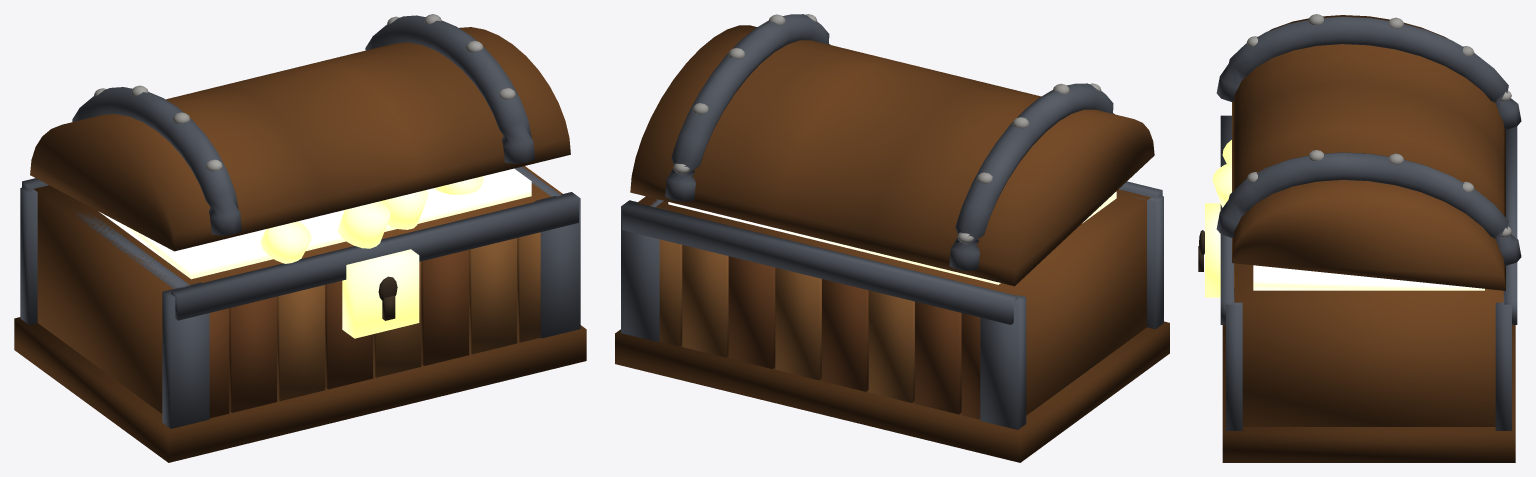
Rendered from objeto-cofre.glb.
3 renders of one model, left to right at view 1: azimuth 30°, elevation 25°; view 2: azimuth 150°, elevation 25°; view 3: azimuth 270°, elevation 25°, orthographic. The views are drawn at different scales.
Parts seen in each view (by area): view 1: Body, Lid, Glow, Coins; view 2: Body, Lid, Glow; view 3: Lid, Body, Glow, Coins.
Part boxes in pixels (x1,y1,x2,y2): Body: (14, 166, 586, 462); Lid: (30, 14, 570, 251); Glow: (99, 168, 531, 279); Coins: (260, 176, 483, 263); Body: (615, 181, 1169, 462); Lid: (630, 14, 1154, 286); Glow: (668, 191, 1116, 284); Lid: (1216, 14, 1521, 290); Body: (1198, 115, 1517, 462); Glow: (1253, 265, 1484, 290); Coins: (1212, 140, 1231, 207).
Size of the model in its own units: 1 by 0.6815 by 0.7047.
